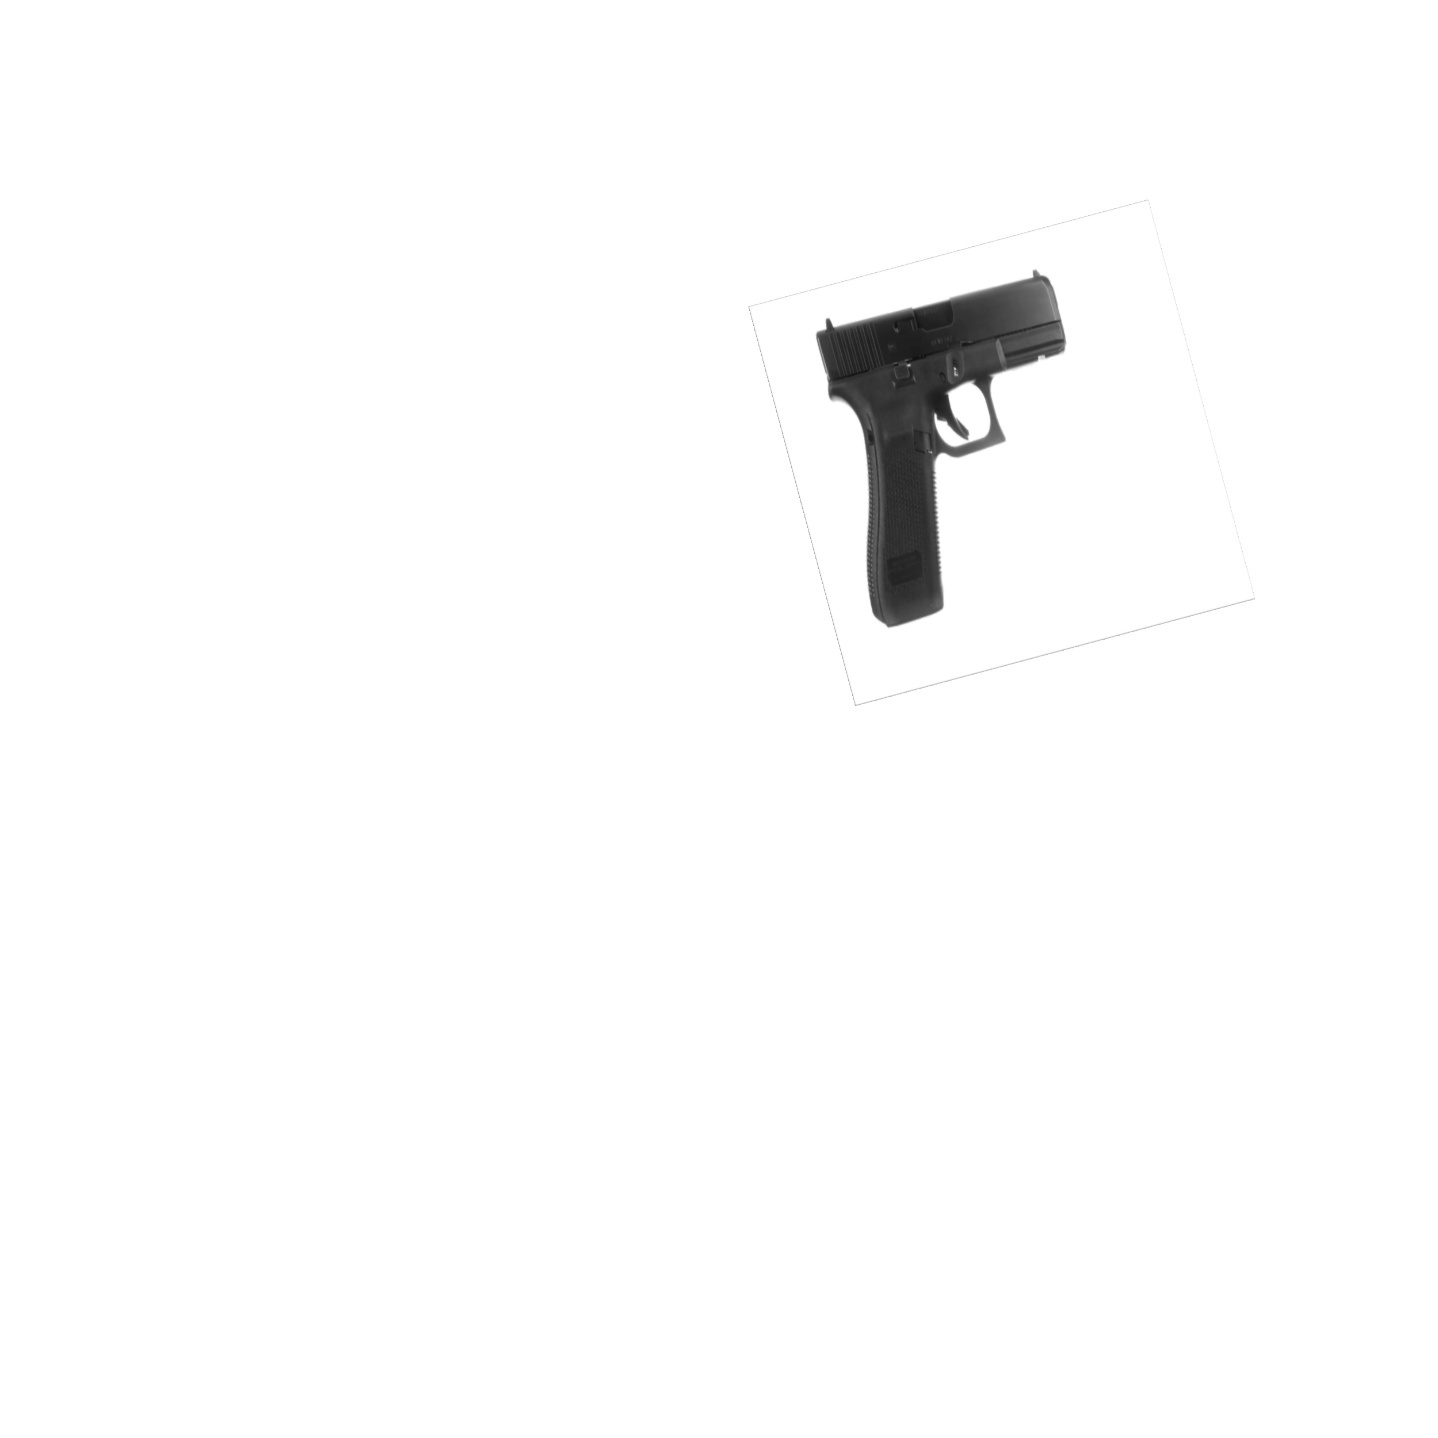gun: (816, 269, 1065, 624)
